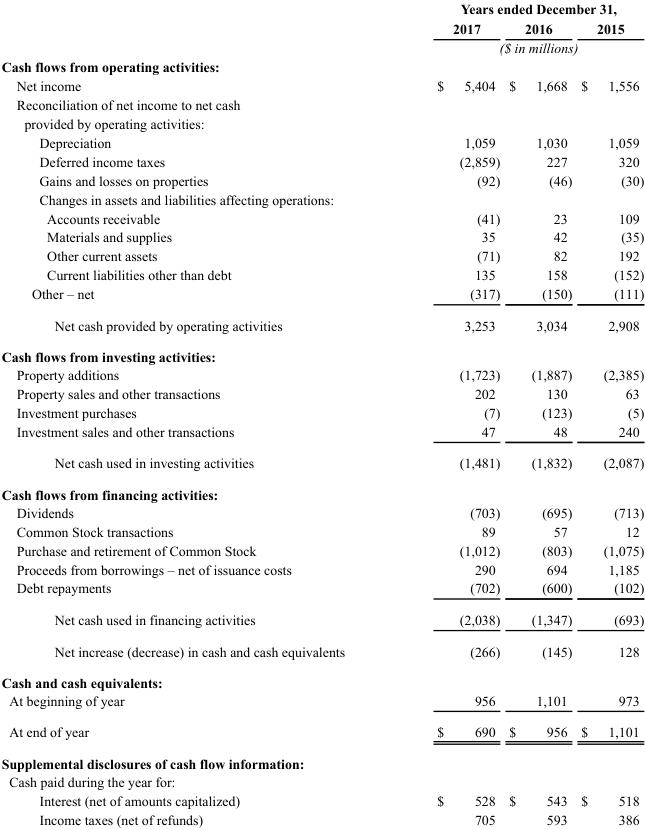table: (0, 0, 643, 826)
table column: (0, 0, 390, 826), (390, 0, 503, 826), (503, 0, 575, 826), (575, 0, 643, 826)
table column header: (0, 0, 643, 56)
table projected row header: (0, 340, 643, 365), (0, 478, 643, 503), (0, 666, 643, 691), (0, 747, 643, 772), (0, 56, 643, 75), (0, 94, 643, 113), (0, 113, 643, 132), (0, 189, 643, 208), (0, 772, 643, 790)
table row: (0, 603, 643, 635), (0, 715, 643, 747), (0, 309, 643, 340), (0, 447, 643, 478), (0, 635, 643, 666), (0, 421, 643, 447), (0, 284, 643, 309), (0, 340, 643, 365), (0, 478, 643, 503), (0, 578, 643, 603), (0, 666, 643, 691), (0, 747, 643, 772), (0, 691, 643, 715), (0, 18, 643, 37), (0, 37, 643, 56), (0, 56, 643, 75), (0, 75, 643, 94), (0, 94, 643, 113), (0, 113, 643, 132), (0, 132, 643, 151), (0, 151, 643, 170), (0, 170, 643, 189), (0, 189, 643, 208), (0, 208, 643, 227), (0, 227, 643, 246), (0, 246, 643, 265), (0, 265, 643, 284), (0, 383, 643, 402), (0, 402, 643, 421), (0, 521, 643, 540), (0, 540, 643, 559), (0, 559, 643, 578), (0, 790, 643, 809), (0, 0, 643, 18), (0, 365, 643, 383), (0, 503, 643, 521), (0, 772, 643, 790), (0, 809, 643, 826)
table spanning cell: (390, 37, 643, 56), (390, 0, 643, 18)
